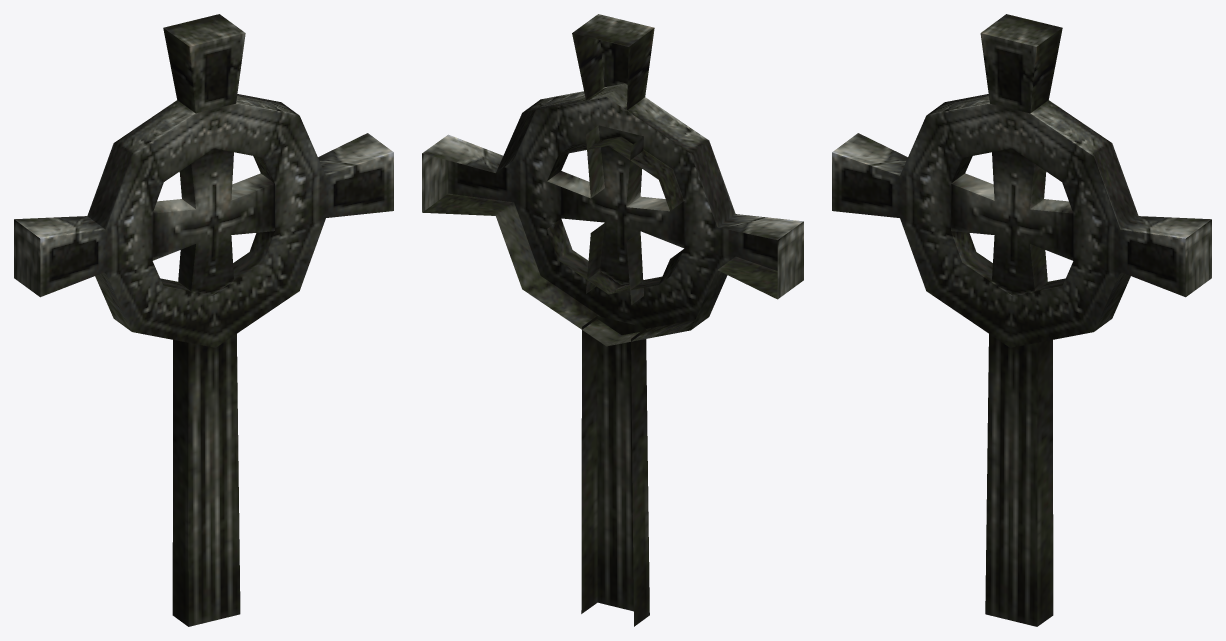
3 renders of one model, left to right at view 1: azimuth 30°, elevation 25°; view 2: azimuth 150°, elevation 25°; view 3: azimuth 330°, elevation 25°, orthographic.
Visible parts, largest first — view 1: SMDImport; view 2: SMDImport; view 3: SMDImport.
Part boxes in pixels (<box>): SMDImport: <box>14,14,393,626</box>; SMDImport: <box>422,14,803,626</box>; SMDImport: <box>832,14,1211,626</box>.
Bounding box in the file's own units: 136 × 214 × 17.66.
